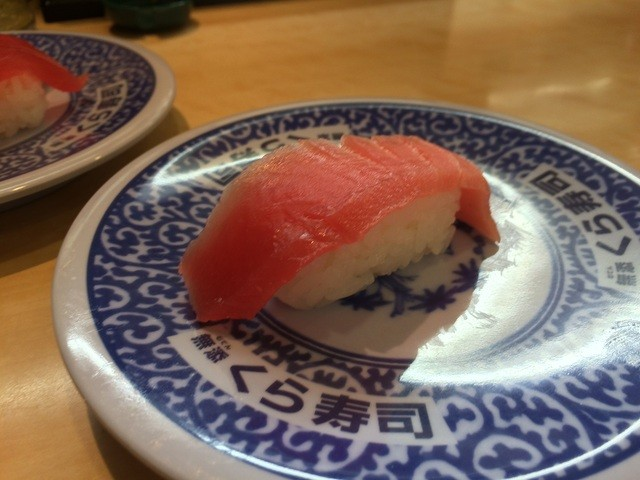medium_fatty_tuna: (185, 134, 504, 321)
